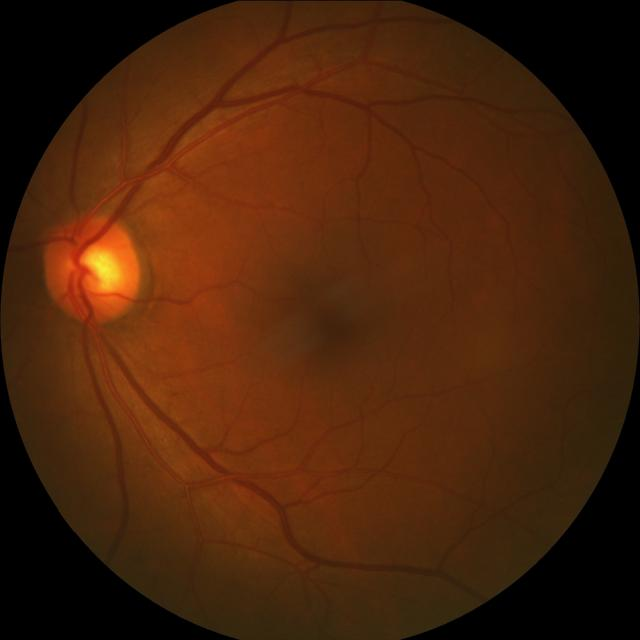OC: (72, 245, 120, 294)
OD: (44, 213, 144, 325)
